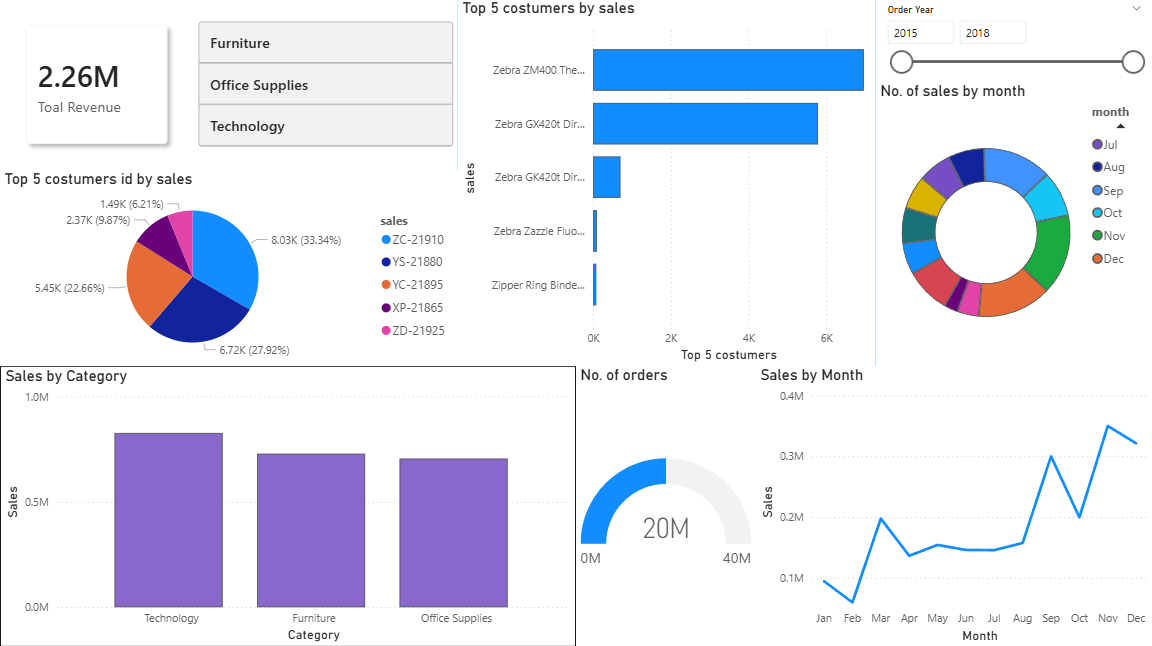

The dashboard page shown, as its layout file describes it:
{"tool":"powerbi","page":{"name":"Page 1","canvas":[1280,720],"ordinal":0},"visuals":[{"type":"cardVisual","fields":{"Data":["Sum(Table1.sales)"]},"box":[0,0,215.6,190],"z":0},{"type":"slicer","fields":{"Values":["Table1.order_year"]},"box":[973,0,307,93],"z":1000},{"type":"clusteredColumnChart","fields":{"Category":["Table1.category"],"Y":["Sum(Table1.sales)"]},"box":[0,408,640,312],"z":2000},{"type":"lineChart","fields":{"Category":["Table1.order_month"],"Y":["Sum(Table1.sales)"]},"box":[840,408,440,312],"z":3000},{"type":"clusteredBarChart","fields":{"Category":["Table1.product _name"],"Y":["Sum(Table1.sales)"]},"box":[508.9,0,464.4,407.8],"z":4000},{"type":"cardVisual","fields":{"Rows":["Table1.category"]},"box":[215.6,0,293.3,190],"z":6000},{"type":"pieChart","fields":{"Category":["Table1.customer_id"],"Y":["Sum(Table1.sales)"]},"box":[0,190,508.9,217.8],"z":7000},{"type":"gauge","fields":{"Y":["Sum(Table1.order_year)"]},"box":[640,408,200,312],"z":7001},{"type":"donutChart","fields":{"Category":["Table1.order_month"],"Y":["Sum(Table1.sales)"]},"box":[973.3,92.2,306.7,315.6],"z":7002}]}

Visuals, with their boxes in screenshot pixels (x1, y1, x2, y2), scaled from the page's 1280x720 canvas onto the 1152x646 screenshot:
cardVisual - Sum(Table1.sales): <bbox>0, 0, 194, 170</bbox>
slicer - Table1.order_year: <bbox>876, 0, 1151, 83</bbox>
clusteredColumnChart - Table1.category x Sum(Table1.sales): <bbox>0, 366, 576, 645</bbox>
lineChart - Table1.order_month x Sum(Table1.sales): <bbox>756, 366, 1151, 645</bbox>
clusteredBarChart - Table1.product _name x Sum(Table1.sales): <bbox>458, 0, 876, 366</bbox>
cardVisual - Table1.category: <bbox>194, 0, 458, 170</bbox>
pieChart - Table1.customer_id x Sum(Table1.sales): <bbox>0, 170, 458, 366</bbox>
gauge - Sum(Table1.order_year): <bbox>576, 366, 756, 645</bbox>
donutChart - Table1.order_month x Sum(Table1.sales): <bbox>876, 83, 1151, 366</bbox>
